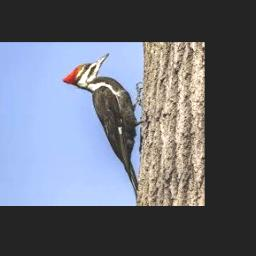Woodpecker: (62, 52, 144, 201)
